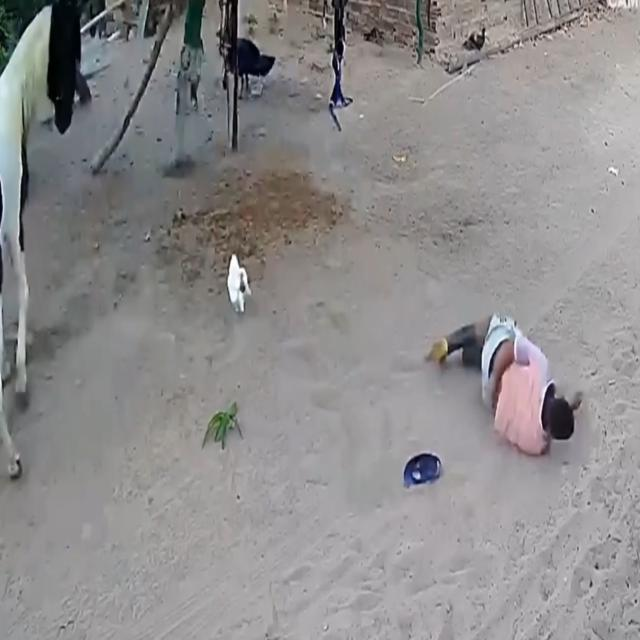fallen: (427, 312, 582, 455)
